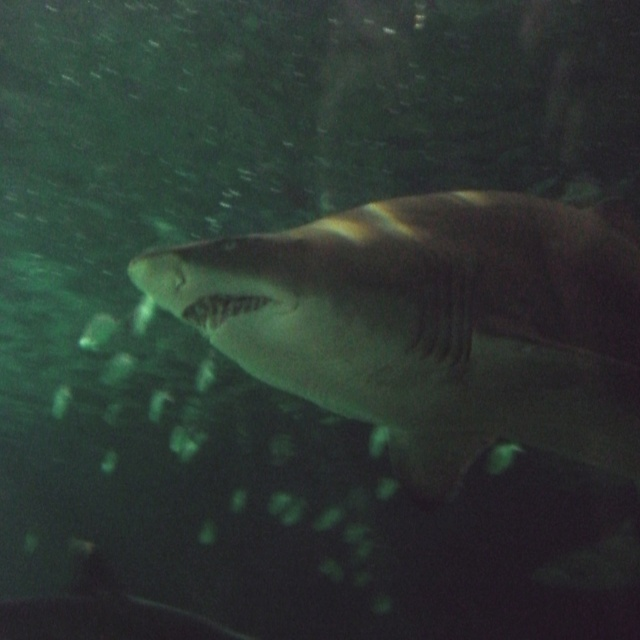Shark: (127, 186, 640, 513)
